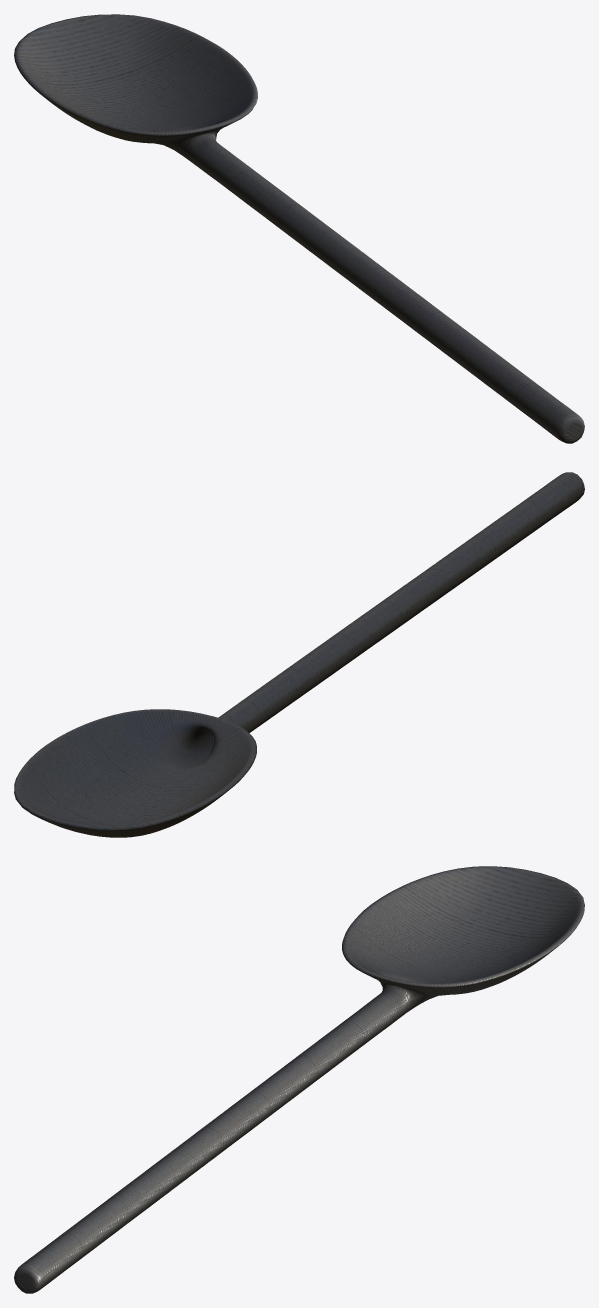
File: 23_Straw.glb
3 renders of one model, top to bottom at view 1: azimuth 30°, elevation 25°; view 2: azimuth 150°, elevation 25°; view 3: azimuth 330°, elevation 25°, orthographic.
Parts seen in each view (by area): view 1: 23_Straw; view 2: 23_Straw; view 3: 23_Straw.
Part boxes in pixels (x1,y1,x2,y2): 23_Straw: [14, 14, 584, 443]; 23_Straw: [14, 472, 584, 837]; 23_Straw: [14, 866, 584, 1293].
Size of the model in its own units: 0.0433 by 0.0116 by 0.2112.
Materials: 1 (1 with a texture image).
